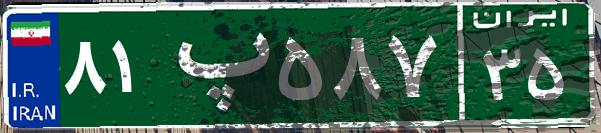1: (110, 28, 158, 105)
3: (475, 38, 525, 113)
5: (273, 28, 330, 110), (525, 38, 570, 115)
7: (385, 28, 445, 110)
8: (330, 28, 385, 110), (57, 26, 110, 107)
پ: (158, 15, 273, 115)
